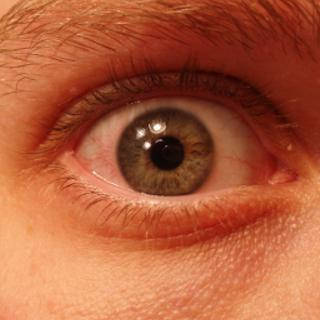pupil: (149, 136, 183, 171)
